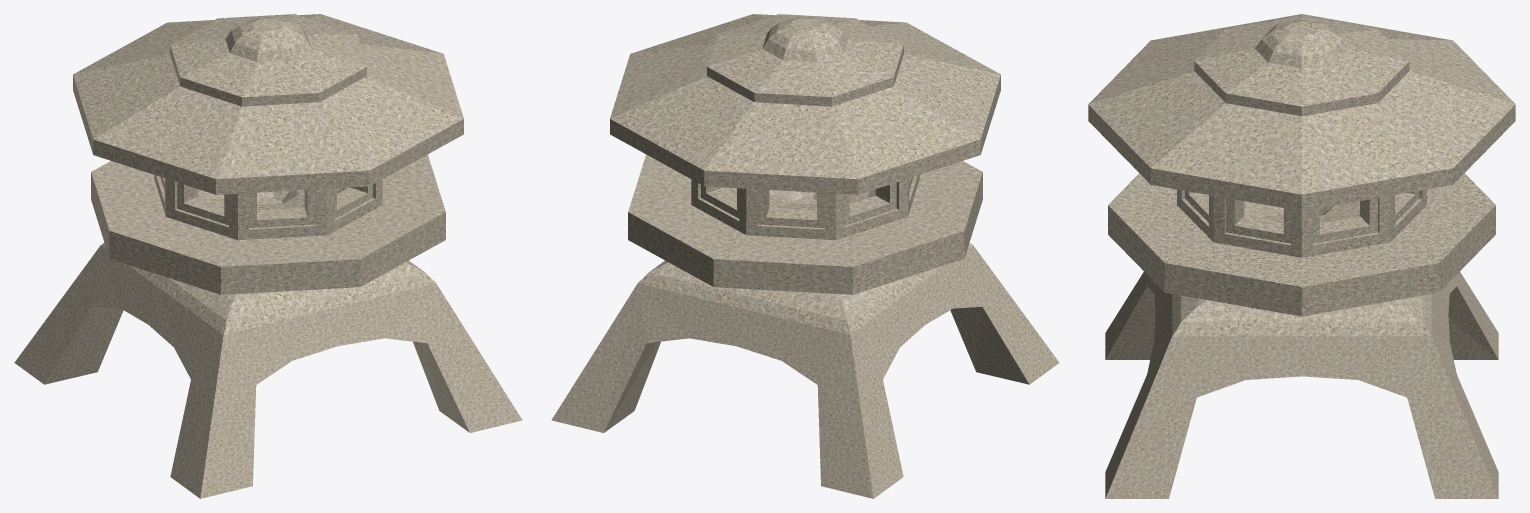
Rendered from sh-bs0-stone-lantern.glb.
3 renders of one model, left to right at view 1: azimuth 30°, elevation 25°; view 2: azimuth 150°, elevation 25°; view 3: azimuth 270°, elevation 25°, orthographic. The views are drawn at different scales.
Parts seen in each view (by area): view 1: StoneLantern_Circle.001; view 2: StoneLantern_Circle.001; view 3: StoneLantern_Circle.001.
Boxes of the visible parts, x1,y1,x2,y2 form: StoneLantern_Circle.001: (14,14,522,498); StoneLantern_Circle.001: (551,14,1059,498); StoneLantern_Circle.001: (1088,14,1515,498).
Bounding box in the file's own units: 1 × 1 × 1.
1 material, 1 textured.
